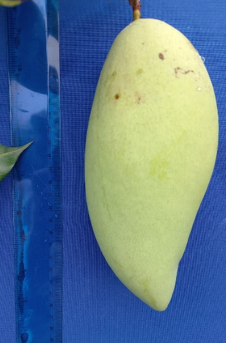Mango-sano: (85, 18, 218, 310)
